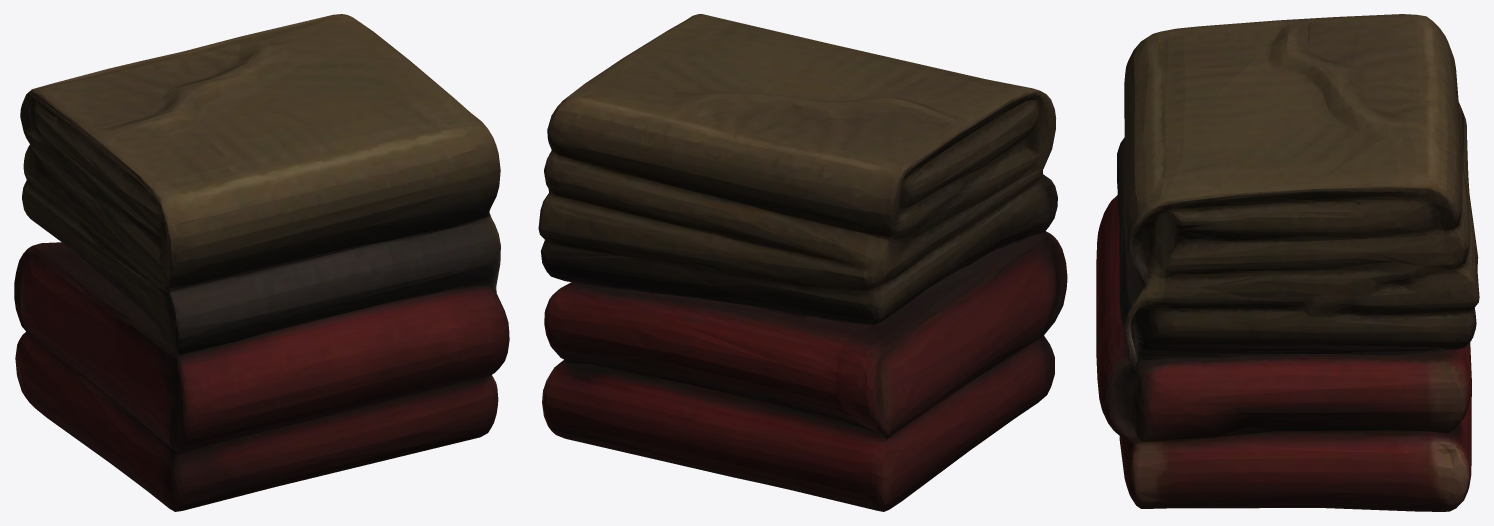
File: clothes_folded_stack_dark.glb
3 views of the same model, side by side, from view 1: azimuth 30°, elevation 25°; view 2: azimuth 150°, elevation 25°; view 3: azimuth 270°, elevation 25° (orthographic). The views are drawn at different scales.
Parts seen in each view (by area): view 1: geometry_0; view 2: geometry_0; view 3: geometry_0.
Part boxes in pixels (x1,y1,x2,y2): geometry_0: [14, 14, 509, 511]; geometry_0: [538, 14, 1067, 511]; geometry_0: [1096, 14, 1479, 511].
Size of the model in its own units: 0.489 by 0.4651 by 0.4692.
Materials: 1 (1 with a texture image).
